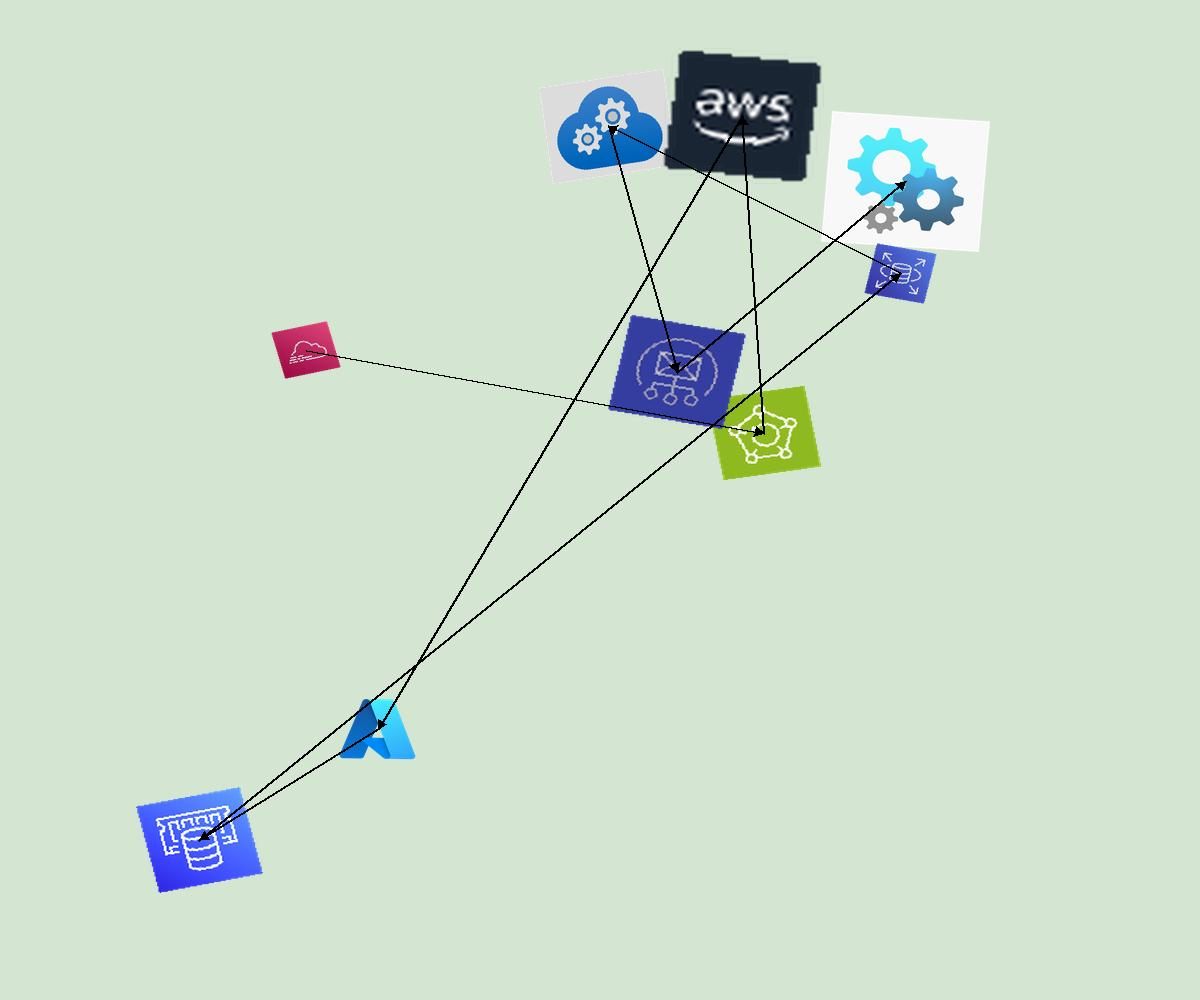AWS-Backup: (706, 385, 822, 481)
AWS-Cloud-logo: (661, 48, 824, 184)
AWS-CloudTrail: (271, 321, 341, 379)
AWS-ElastiCache: (136, 787, 263, 893)
AWS-RDS: (864, 243, 937, 304)
AWS-Simple-Email-Service: (607, 314, 747, 430)
Azure_api: (821, 111, 990, 252)
Azure_cloud_services: (538, 68, 678, 185)
Azure_services: (336, 694, 420, 764)
